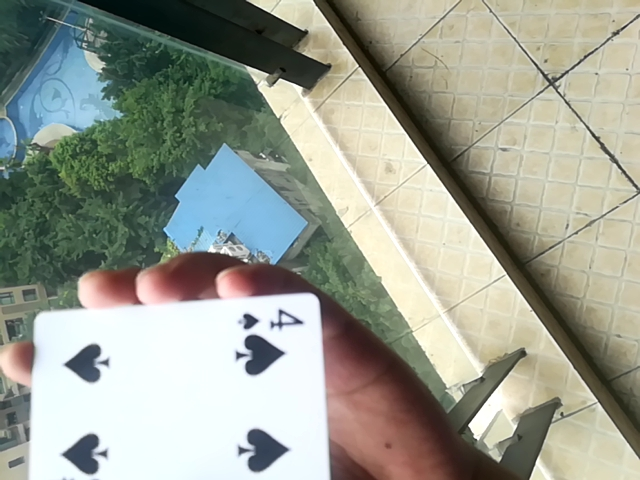ht 4: (15, 286, 339, 480)
